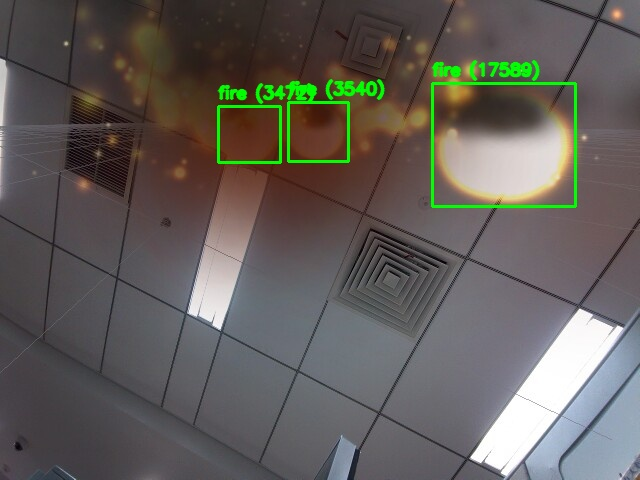fire: (432, 83, 575, 206), (288, 102, 348, 161), (218, 106, 280, 162)
